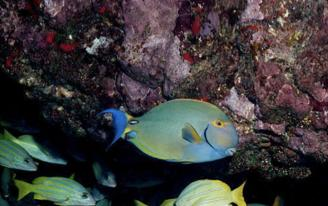Acanthuridae -Surgeonfishes-: (95, 98, 239, 161)
